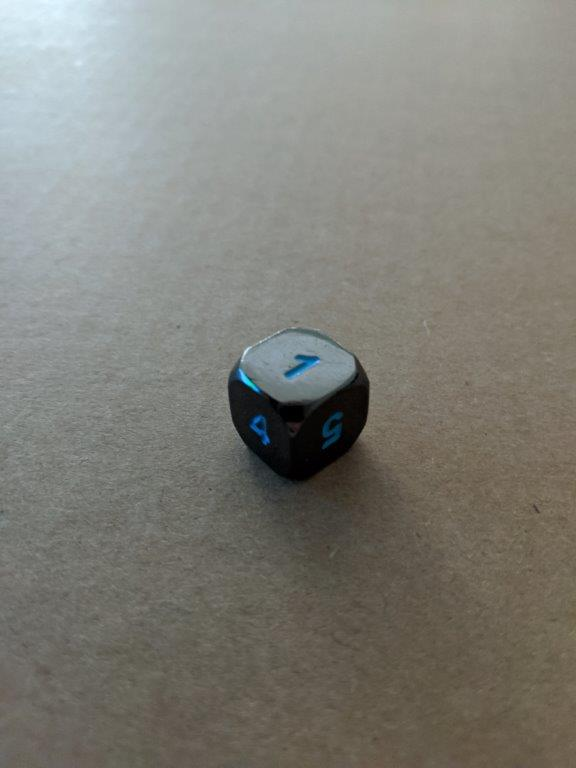d6-1: (228, 327, 369, 483)
